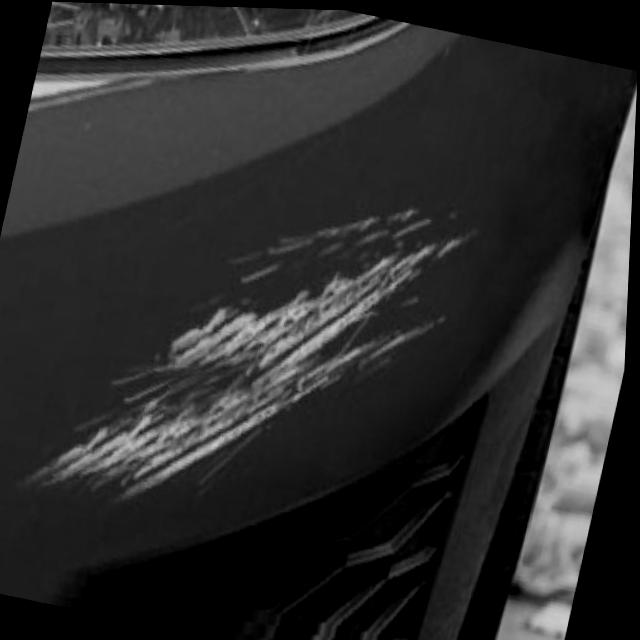Scratch: (13, 199, 487, 512)
